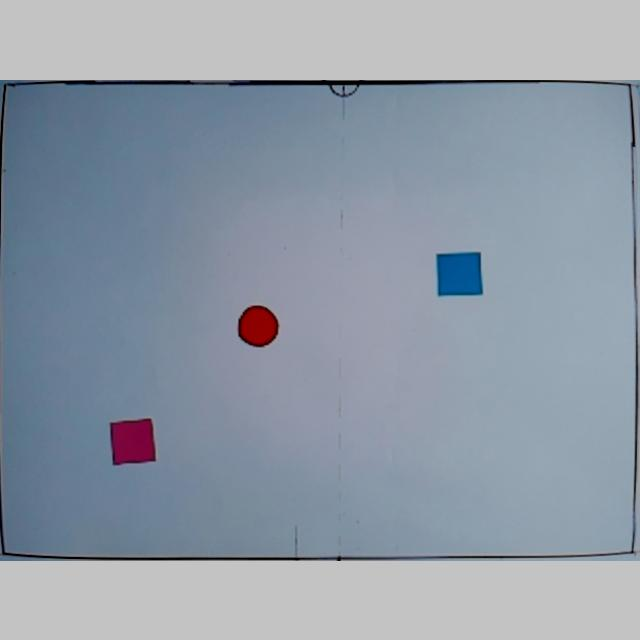blueSquare: (436, 250, 482, 296)
pinkSquare: (110, 416, 158, 466)
redCircle: (237, 302, 280, 348)
